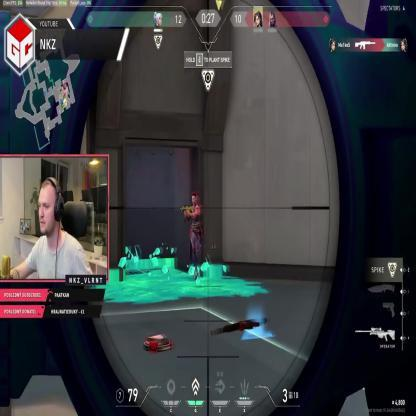enemy: (181, 192, 203, 282)
enemy_head: (190, 192, 198, 208)
